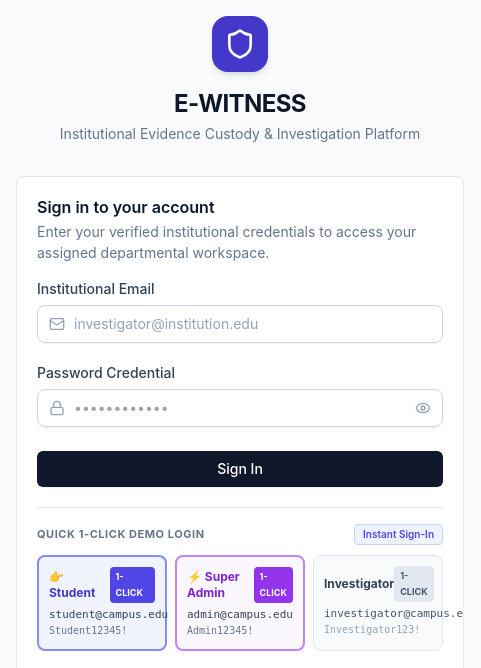
Test case: LoginPage & LoginForm UI › displays safe network error message when server is unavailable
The width and height of the screenshot is (481, 668).
Type "test@university.edu" into the field labelled "Institutional Email" at (240, 324), box [37,305,443,343]
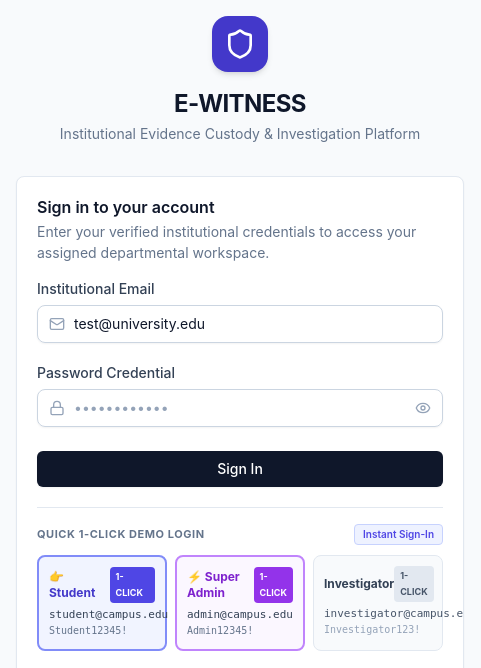
Type "ValidPassword123!" into the password field labelled "Password Credential" at (240, 408), box [37,389,443,427]
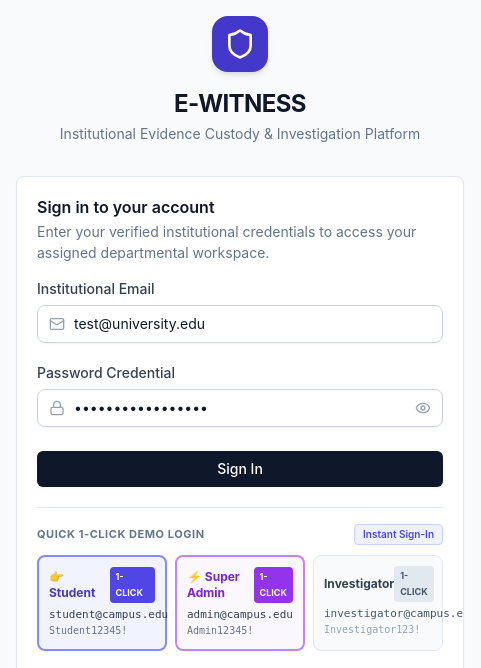
Click the button "Sign In" at (240, 469), box [37,451,443,487]
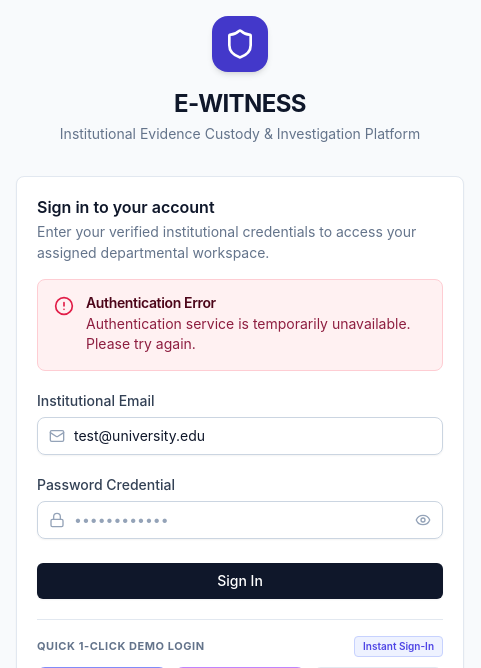
Result: the text "Authentication service is temporarily unavailable" is shown at [86,315,411,352]
